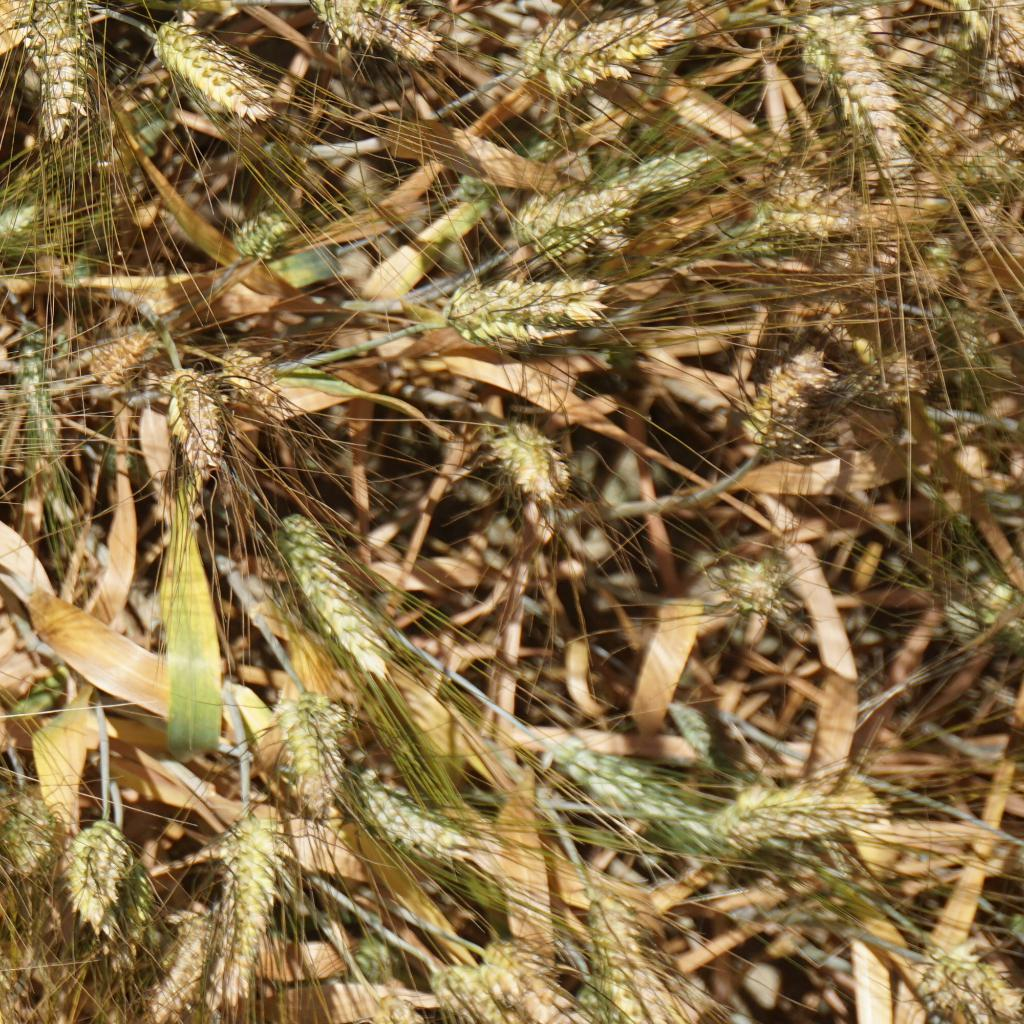0-0: (504, 139, 714, 263), (263, 505, 395, 681), (127, 15, 271, 130), (569, 744, 722, 848), (702, 787, 888, 866), (262, 675, 351, 833), (805, 21, 905, 155), (151, 358, 248, 489), (19, 0, 98, 160), (208, 808, 279, 986), (354, 777, 484, 874), (446, 269, 616, 342), (514, 9, 679, 84), (0, 305, 70, 474), (582, 898, 670, 1024), (498, 415, 594, 527), (296, 0, 458, 65), (722, 190, 864, 260), (337, 913, 424, 1024), (740, 346, 823, 453), (204, 337, 299, 420), (833, 332, 921, 417), (149, 902, 218, 1006), (905, 941, 998, 1017), (492, 943, 581, 1021), (4, 781, 70, 880), (58, 815, 123, 909), (433, 953, 512, 1019), (82, 318, 153, 390), (709, 553, 789, 614), (947, 0, 1017, 69), (0, 914, 36, 1024), (236, 206, 299, 262), (0, 193, 53, 250)
